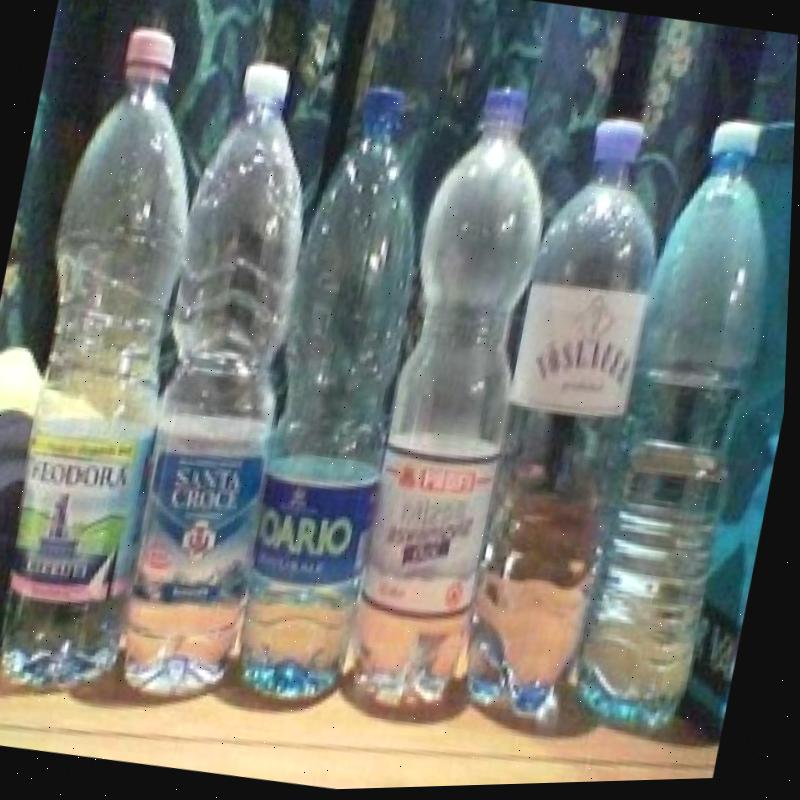botella: (100, 52, 347, 713), (0, 17, 234, 698), (215, 81, 459, 718), (338, 81, 574, 732), (450, 109, 687, 737), (573, 116, 796, 744)
